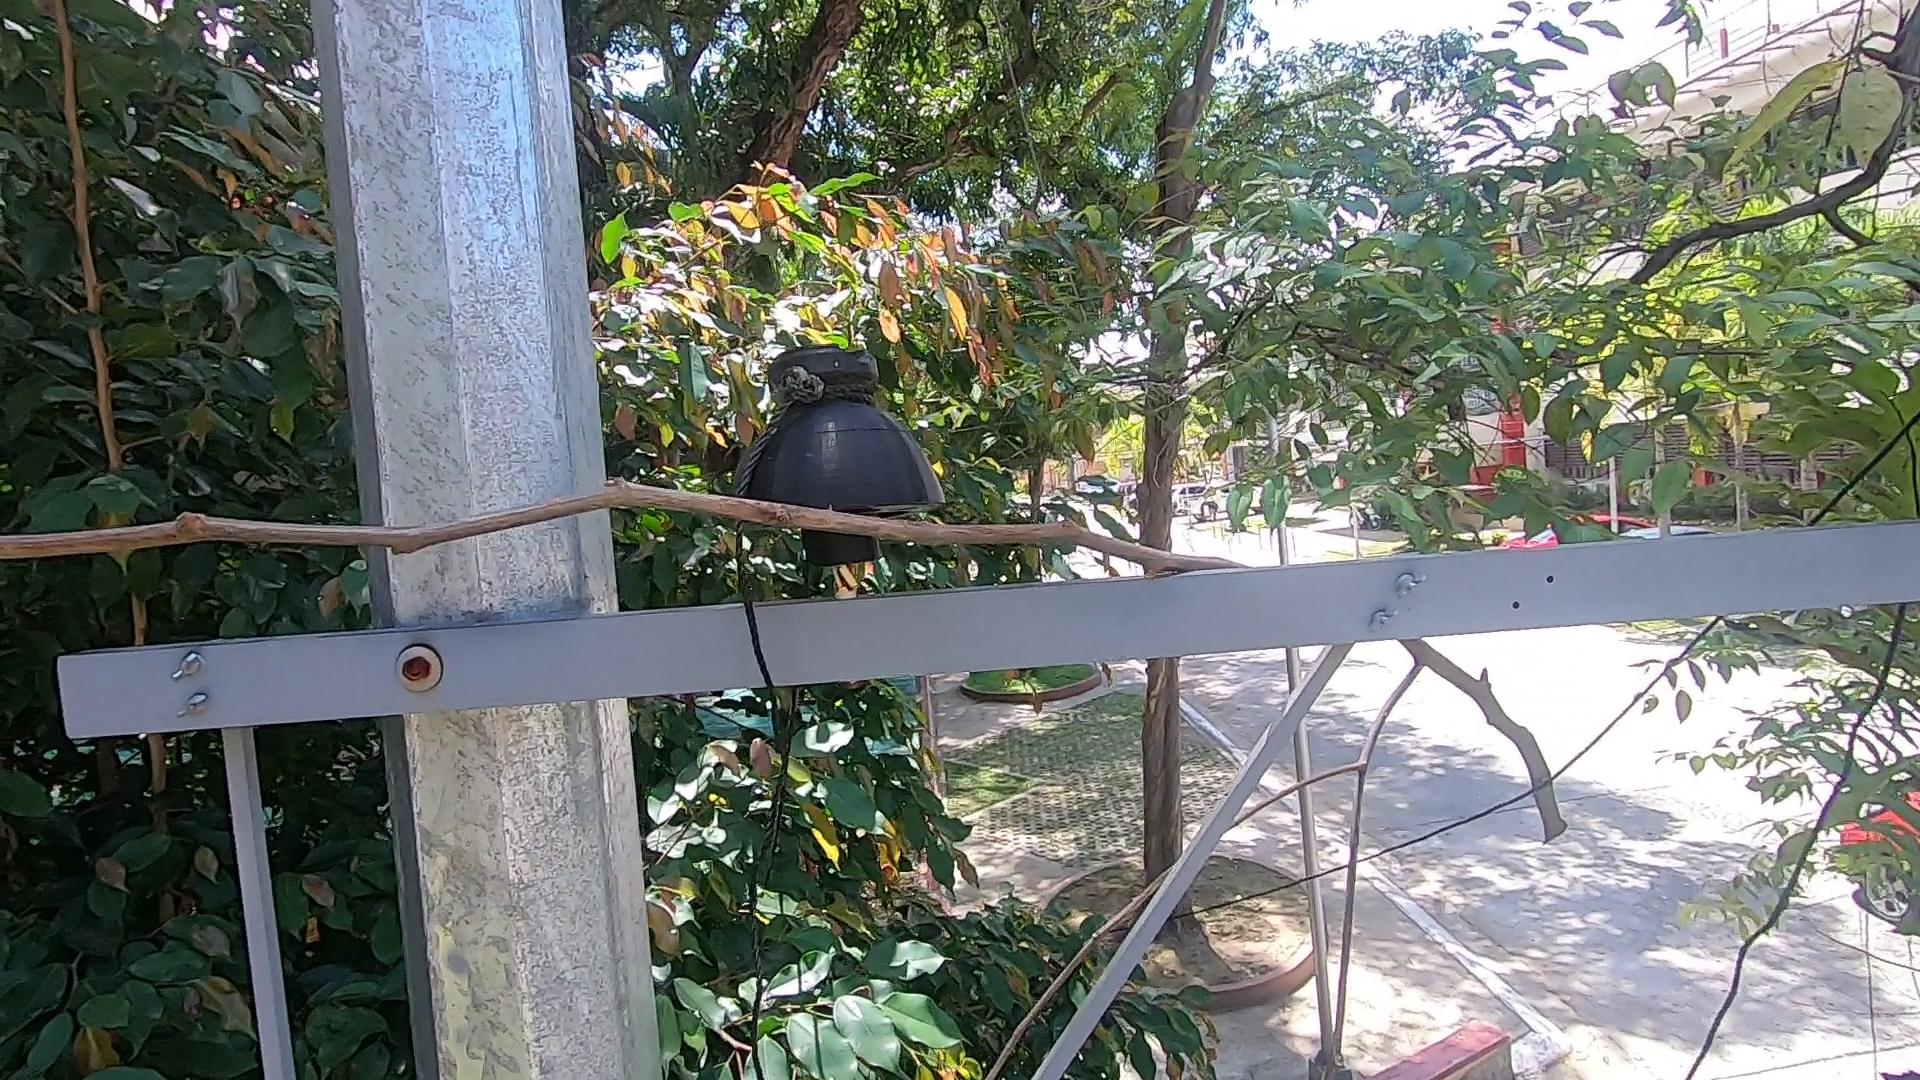tree branch: (971, 644, 1569, 1067), (1, 481, 1276, 568)
